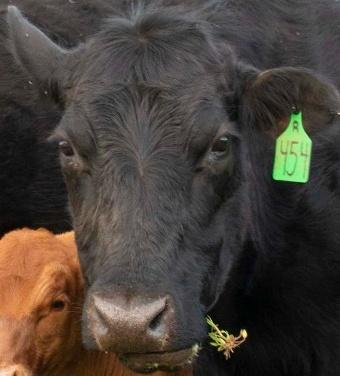muzzles: (79, 285, 207, 353)
